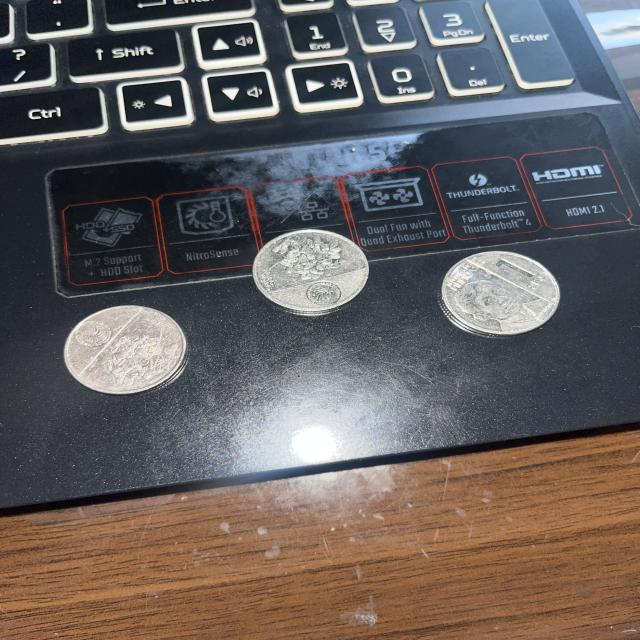1_New_Back: (266, 232, 344, 283)
1_New_Front: (491, 255, 551, 293)
